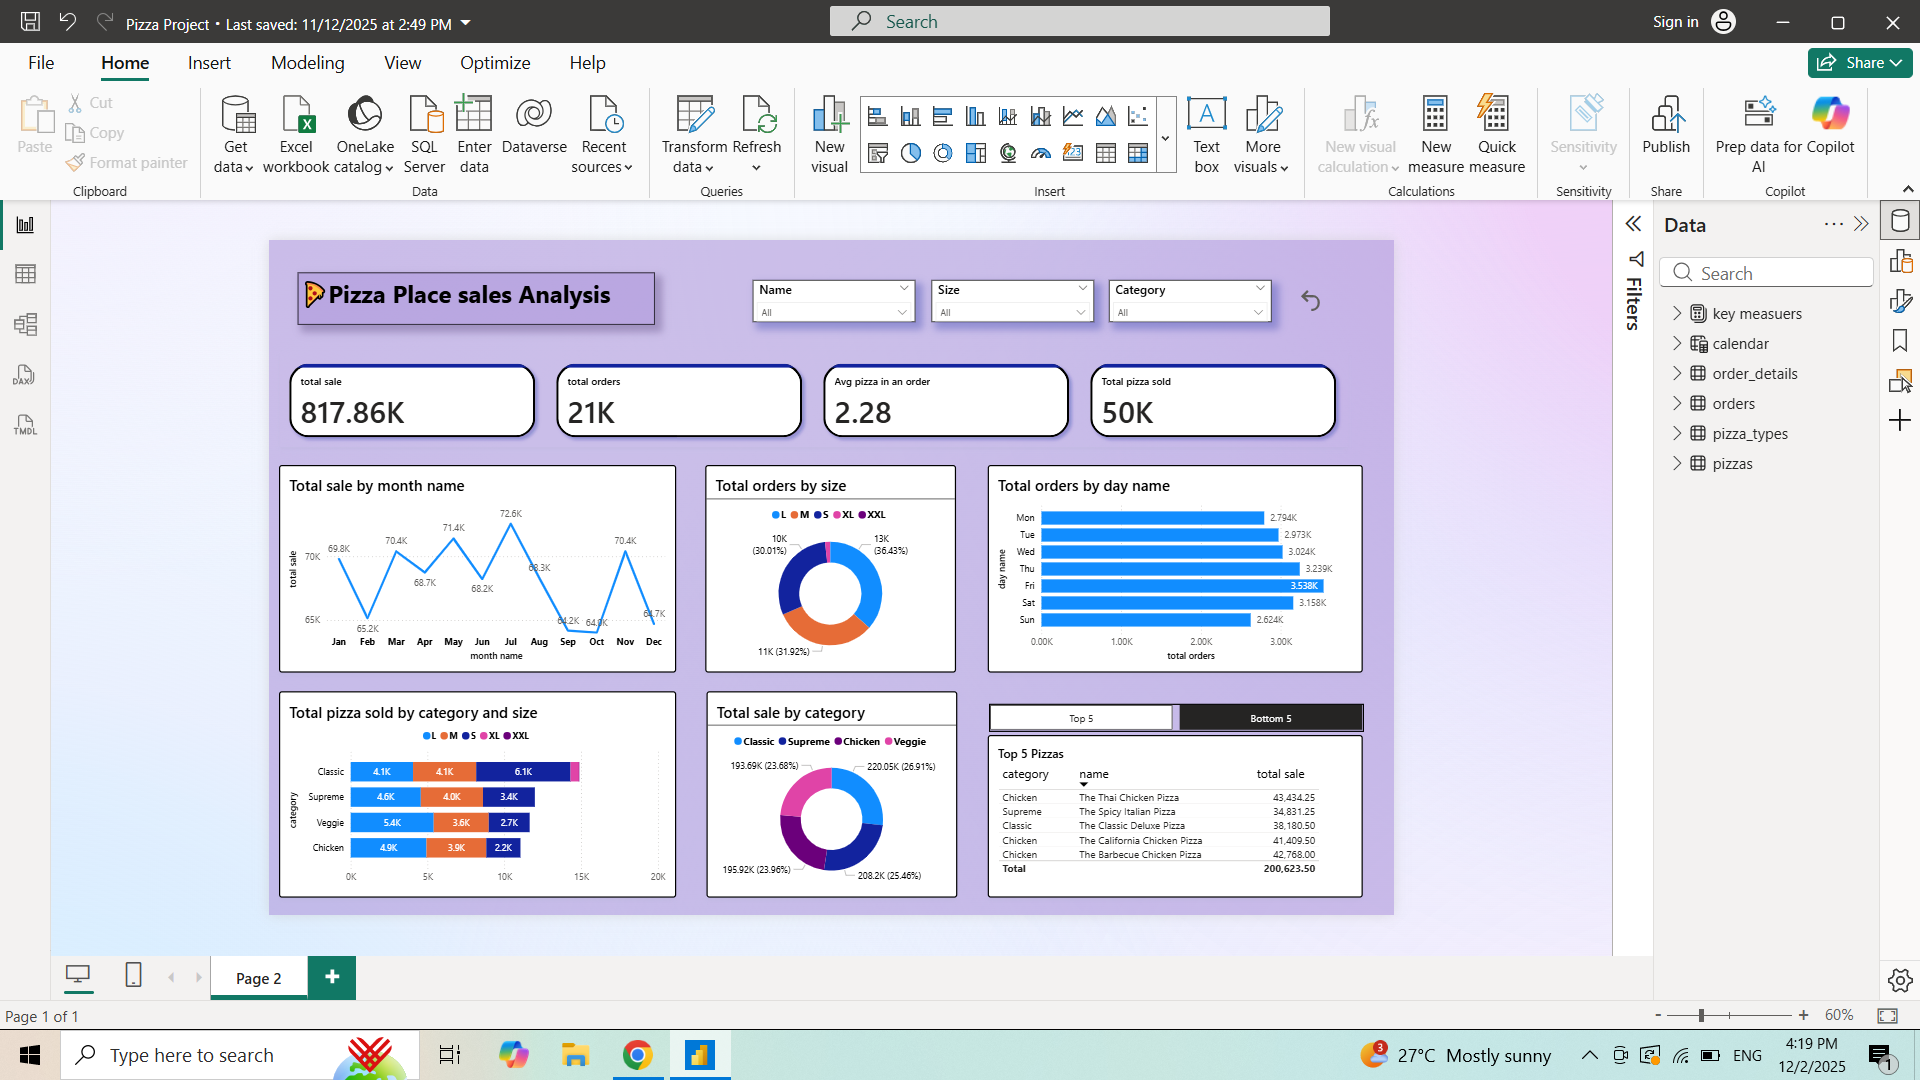

Layout of this report page (visuals, bound fields, positions):
{"tool":"powerbi","page":{"name":"Page 2","canvas":[1500,900],"ordinal":0},"visuals":[{"type":"textbox","box":[39,44.1,476.3,69.5],"z":0},{"type":"cardVisual","fields":{"Data":["key measuers.total sale","key measuers.total orders","key measuers.Avg pizza in an order","key measuers.Total pizza sold"]},"box":[14.5,147.8,1423.2,127.5],"z":1000},{"type":"lineChart","title":"Total sale by month name","fields":{"Category":["calendar.month name"],"Y":["key measuers.total sale"]},"box":[14.1,300,529.7,276.6],"z":2000},{"type":"donutChart","title":"Total orders by size","fields":{"Category":["pizzas.size"],"Y":["key measuers.total orders"]},"box":[581.2,300,334.4,276.6],"z":3000},{"type":"donutChart","title":"Total sale by category","fields":{"Category":["pizza_types.category"],"Y":["key measuers.total sale"]},"box":[582.8,601.6,334.4,275],"z":4000},{"type":"barChart","title":"Total orders by day name","fields":{"Category":["calendar.day name"],"Y":["key measuers.total orders"]},"box":[957.8,300,500,276.6],"z":5000},{"type":"barChart","title":"Total pizza sold by category and size","fields":{"Category":["pizza_types.category"],"Y":["key measuers.Total pizza sold"],"Series":["pizzas.size"]},"box":[14.1,601.6,529.7,275],"z":6000},{"type":"tableEx","title":"Top 5 Pizzas","fields":{"Values":["pizza_types.category","pizza_types.name","key measuers.total sale"]},"box":[957.8,659.4,500,217.2],"z":7000},{"type":"bookmarkNavigator","box":[959.3,618.6,500,37.3],"z":9000},{"type":"slicer","fields":{"Values":["pizza_types.name"]},"box":[645.8,52.5,216.9,55.9],"z":10000},{"type":"slicer","fields":{"Values":["pizzas.size"]},"box":[883.1,52.5,216.9,55.9],"z":11000},{"type":"slicer","fields":{"Values":["pizza_types.category"]},"box":[1120.3,52.5,216.9,55.9],"z":12000},{"type":"actionButton","box":[1369.6,62.3,53.6,37.7],"z":17000}]}

Visuals, with their boxes on the page's 1500x900 design canvas (x1, y1, x2, y2). These are canvas units, not pixel positions in the 1920x1080 screenshot, which may show the page scaled, cropped or inside an application window:
textbox: (39,44,515,114)
cardVisual - key measuers.total sale x key measuers.total orders: (14,148,1438,275)
"Total sale by month name" lineChart: (14,300,544,577)
"Total orders by size" donutChart: (581,300,916,577)
"Total sale by category" donutChart: (583,602,917,877)
"Total orders by day name" barChart: (958,300,1458,577)
"Total pizza sold by category and size" barChart: (14,602,544,877)
"Top 5 Pizzas" tableEx: (958,659,1458,877)
bookmarkNavigator: (959,619,1459,656)
slicer - pizza_types.name: (646,52,863,108)
slicer - pizzas.size: (883,52,1100,108)
slicer - pizza_types.category: (1120,52,1337,108)
actionButton: (1370,62,1423,100)
